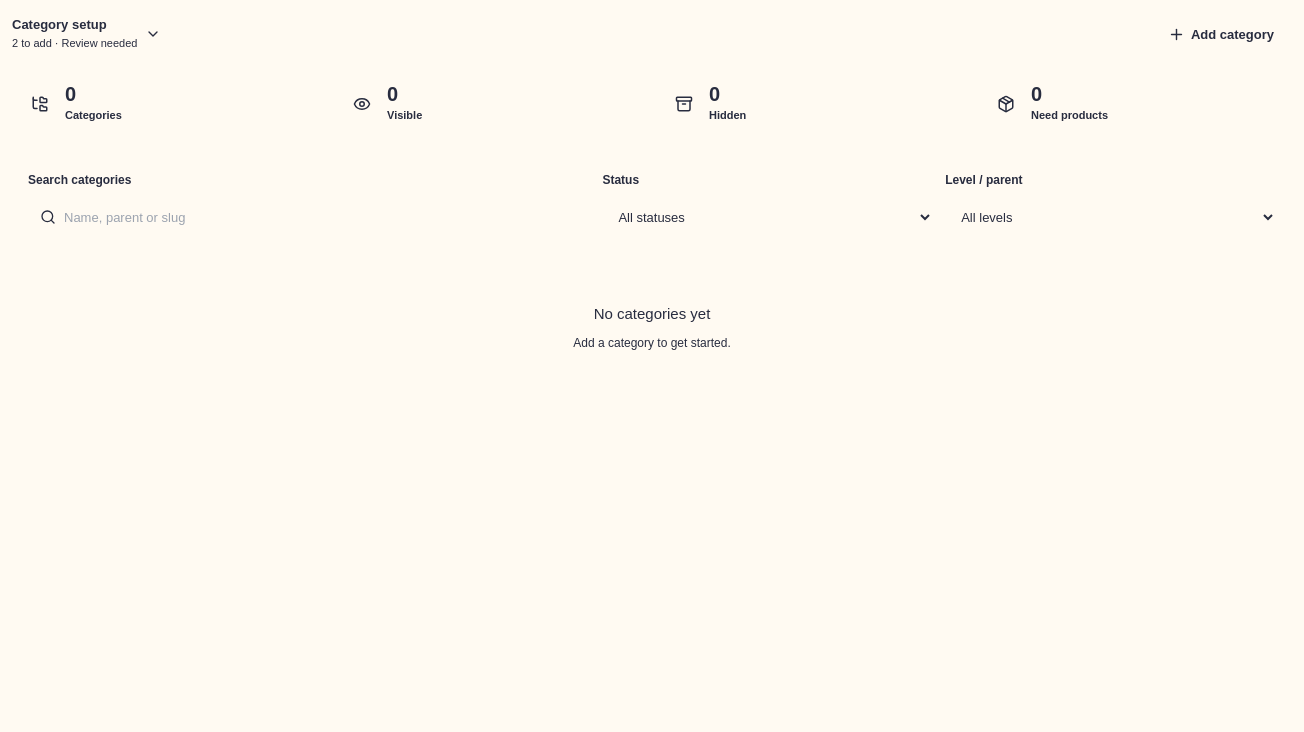
admin can add missing bridal categories without exposing them immediately
Click the heading "Category setup 2 to add · Review needed" at point(87, 34), box [12, 12, 161, 56]
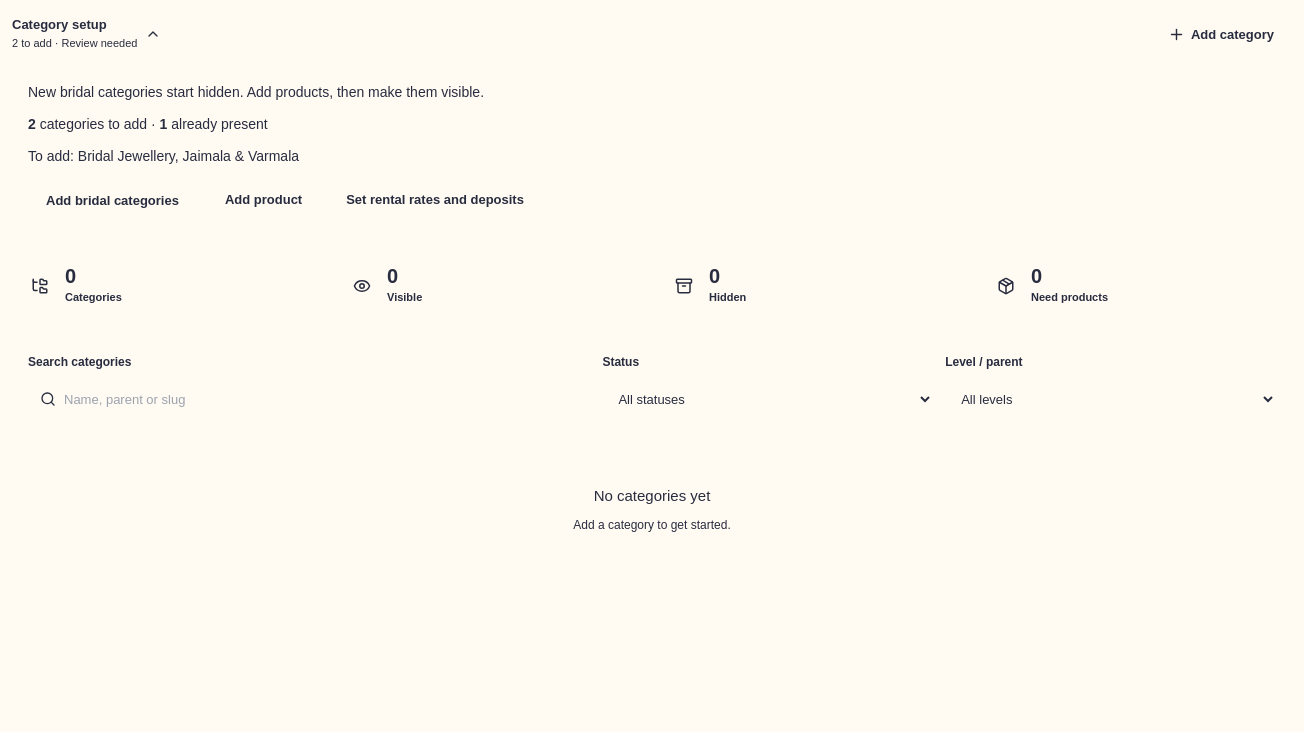
Click the button "Add bridal categories" at point(112, 200), box [28, 178, 197, 222]
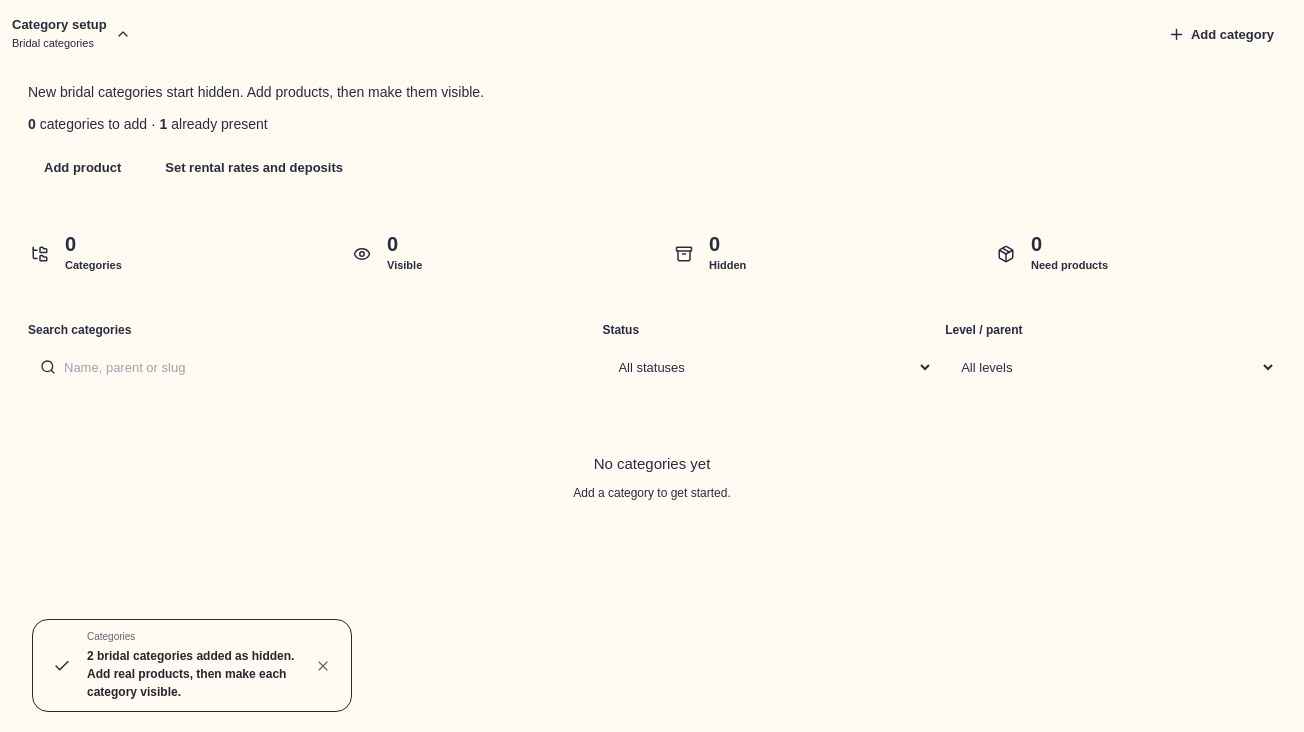
Expected: the text "2 bridal categories added as hidden" is shown, [87, 649, 294, 699]
Expected: the button "Add bridal categories" is gone
